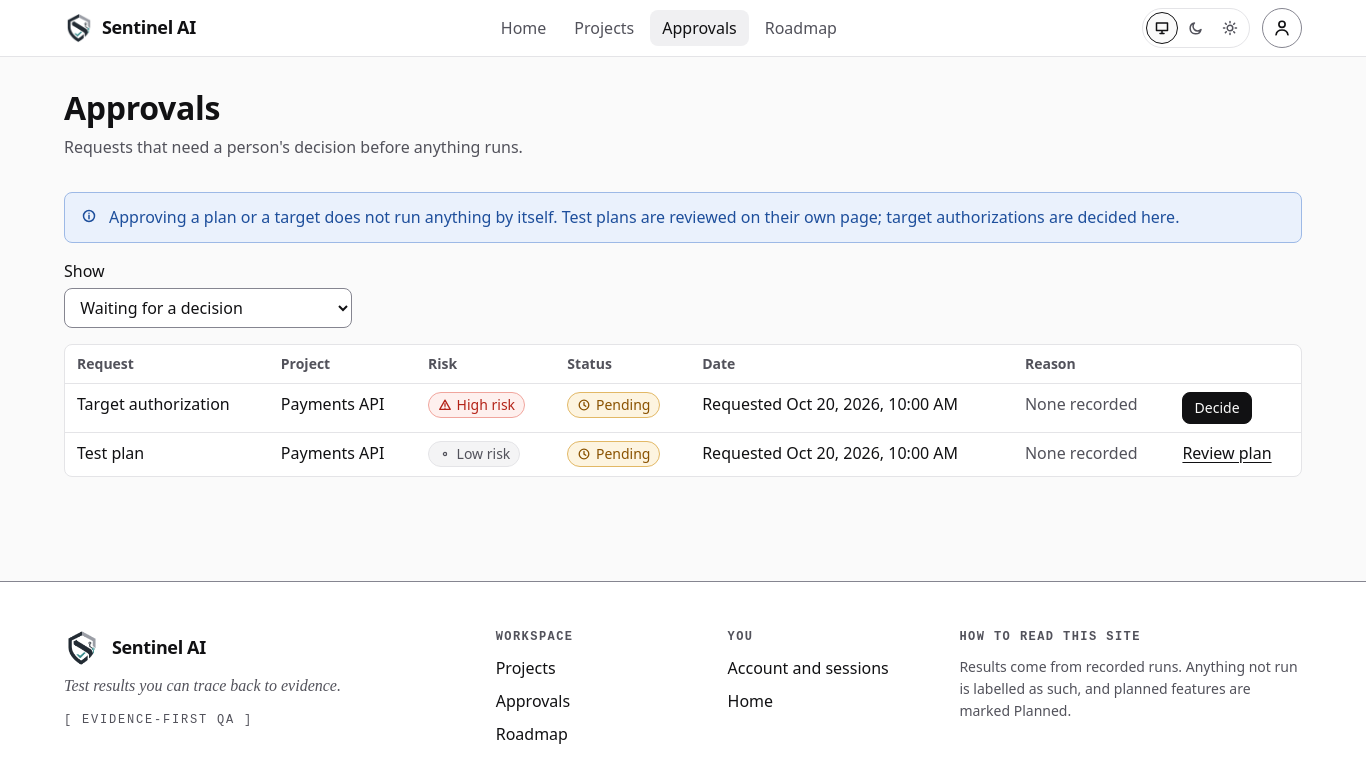
Scenario: approvals workflow › shows what is being authorised and requires a 10-character reason to approve high risk
Click the button "Decide": (1217, 408) [1182,392,1252,424]
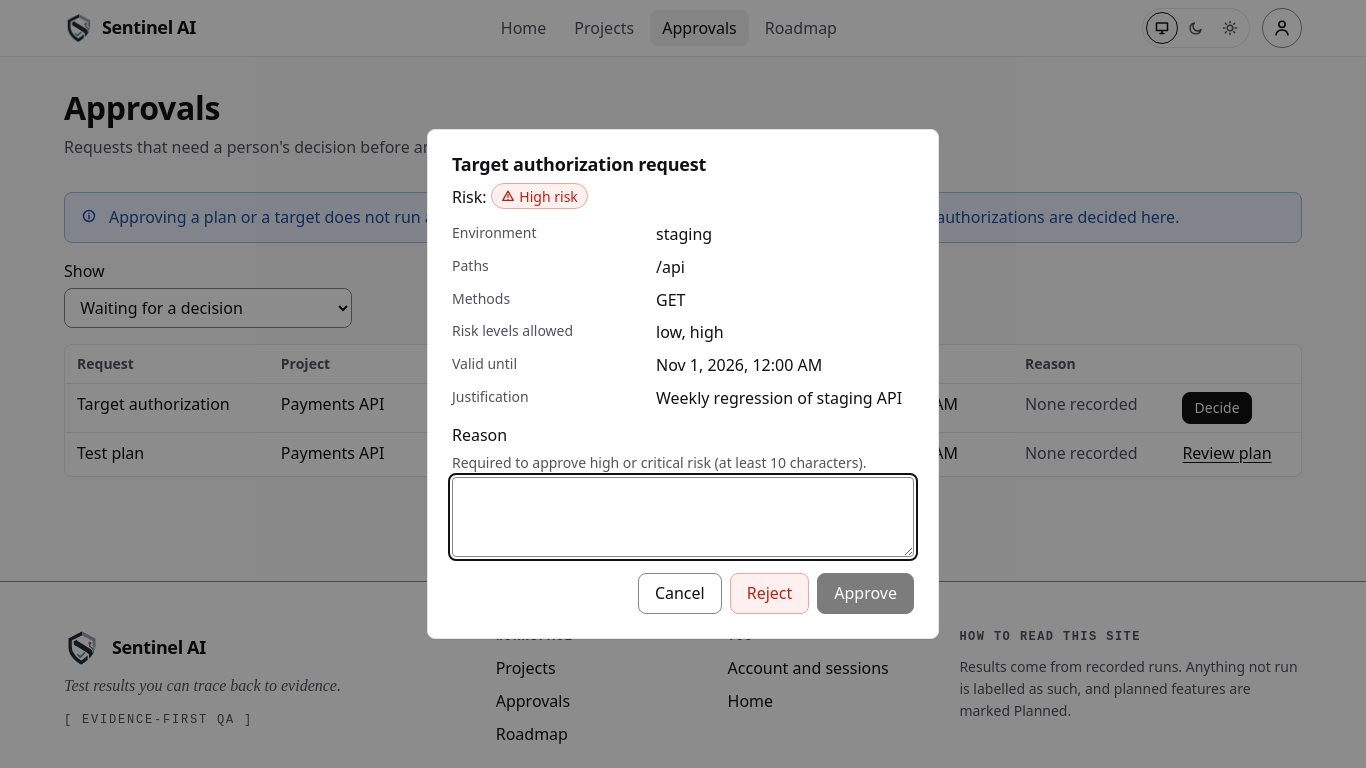
expect the text "staging" is shown: met, box [656,223,712,245]
expect the text "Weekly regression of staging API" is shown: met, box [656,386,914,411]
expect the button "Approve" is disabled: met, box [817,573,914,614]
In the text box labelled "Reason": (683, 517) [452,477,914,557], type "too short"
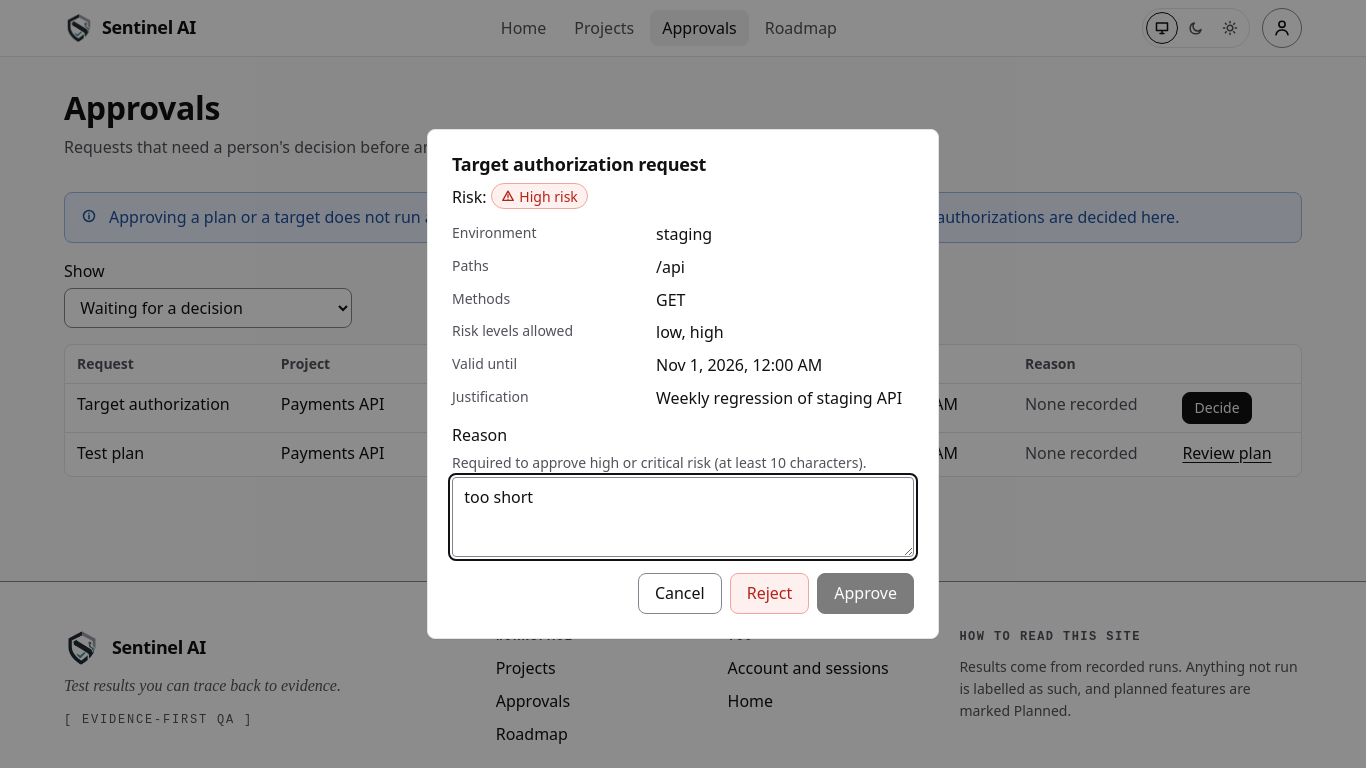
expect the button "Approve" is disabled: met, box [817,573,914,614]
Replace the text in the text box labelled "Reason" with "Reviewed scope and window": (683, 517) [452,477,914,557]
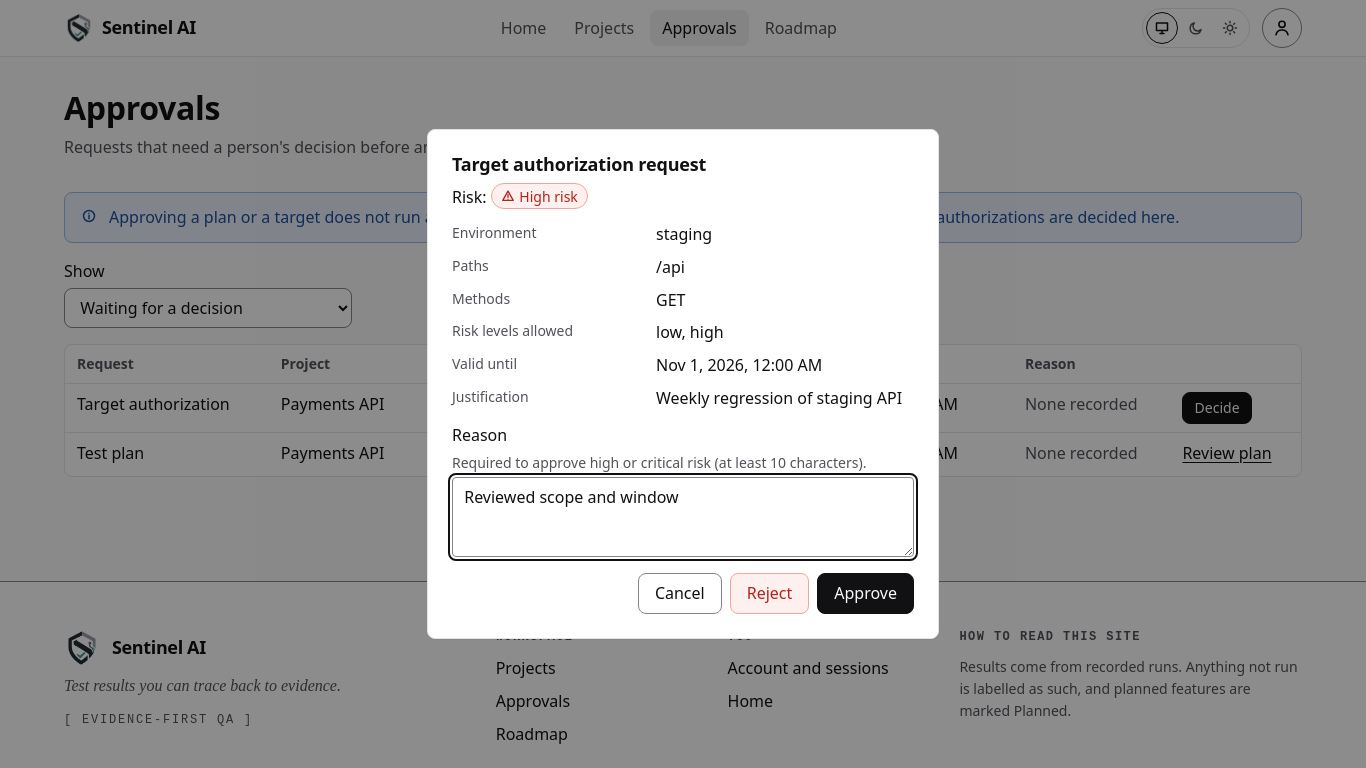
expect the button "Approve" is enabled: met
Click the button "Approve": (866, 594) [817,573,914,614]
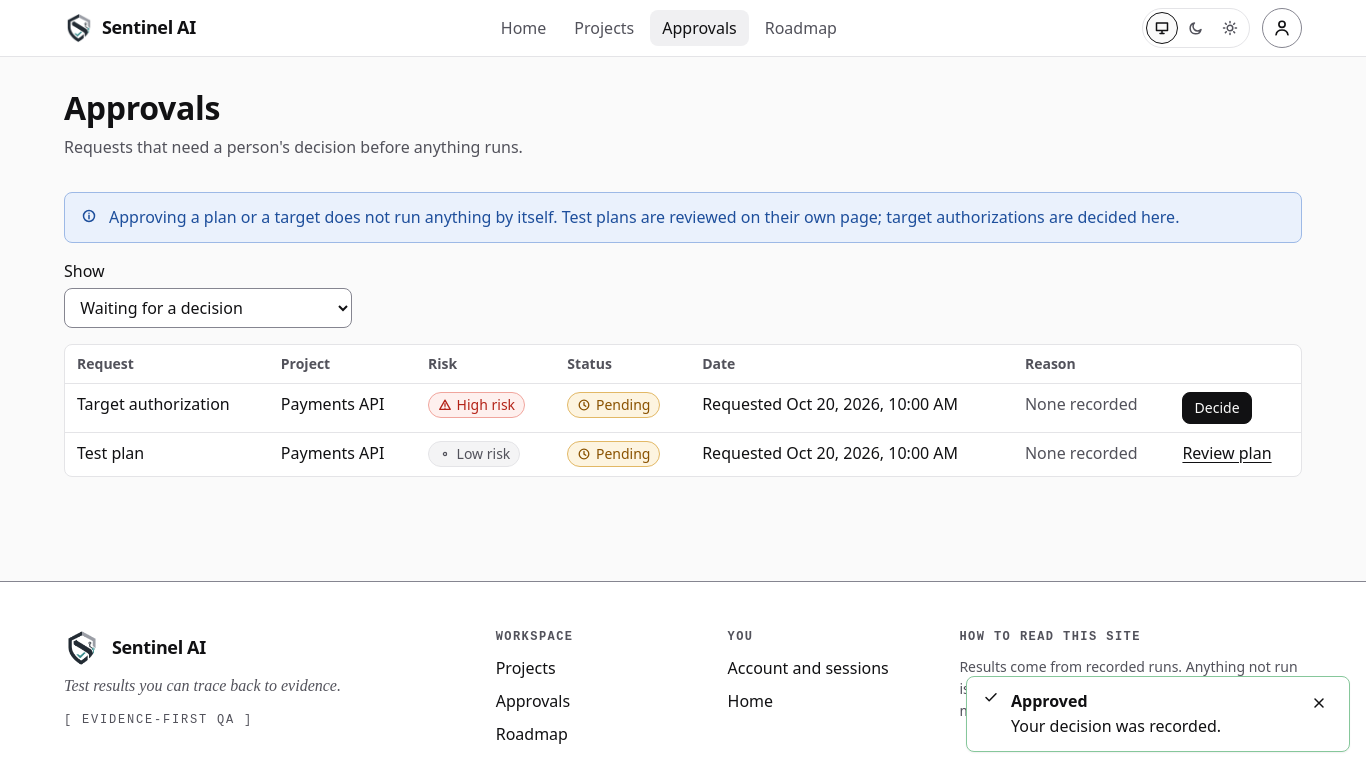
expect the dialog is gone: met
